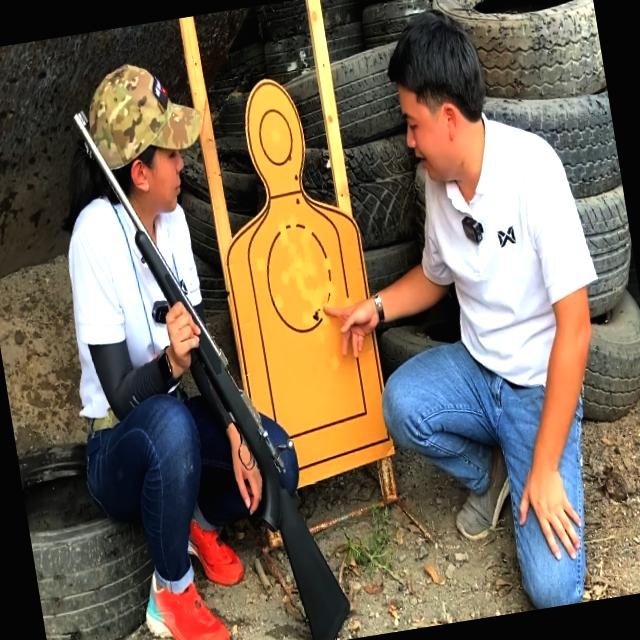rifle: (57, 74, 367, 640)
